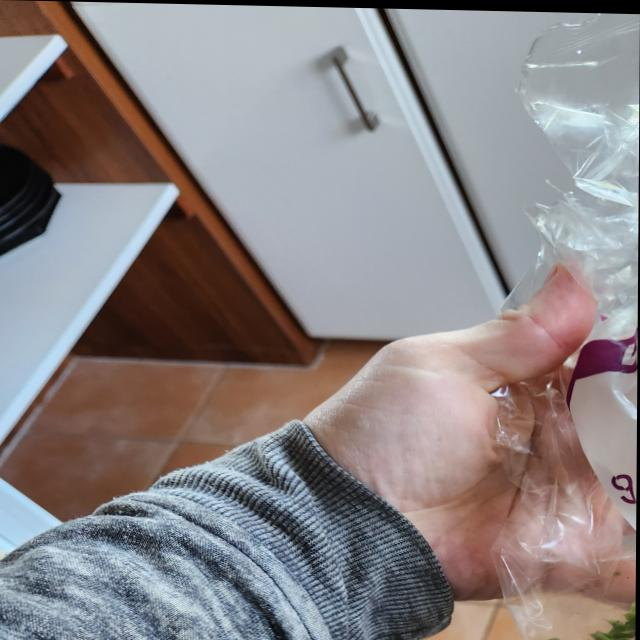salad: (498, 36, 639, 640)
